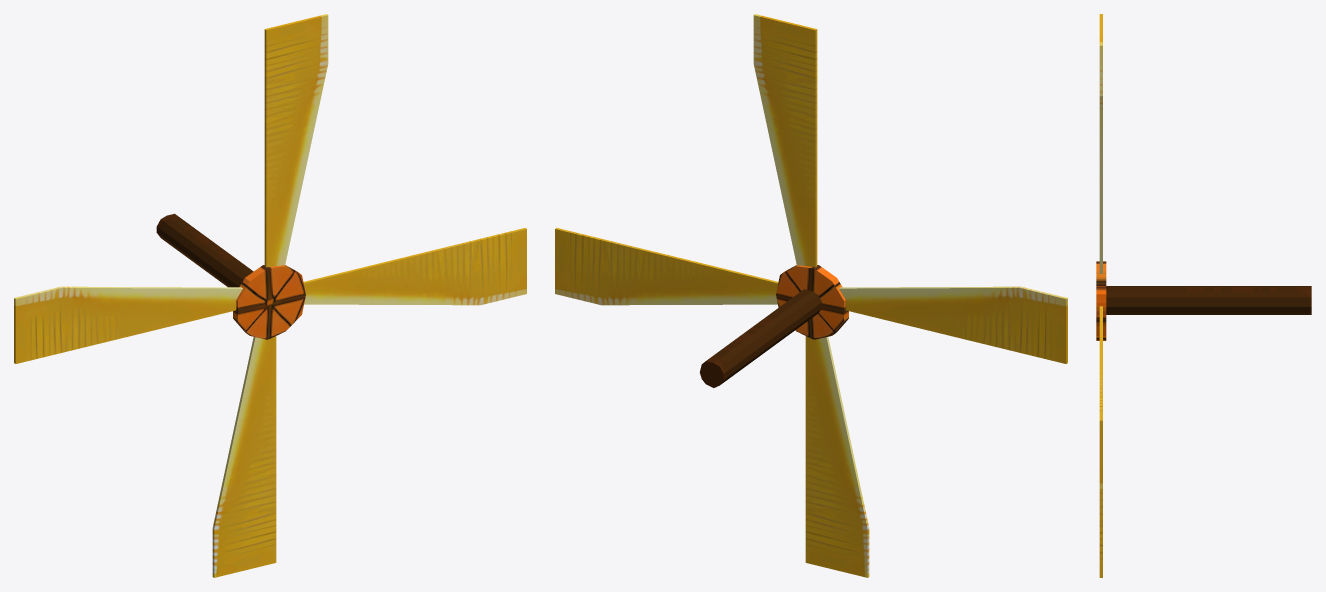
The model's file is GolfFan.glb.
3 views of the same model, side by side, from view 1: azimuth 30°, elevation 25°; view 2: azimuth 150°, elevation 25°; view 3: azimuth 270°, elevation 25° (orthographic). The views are drawn at different scales.
Visible parts, largest first — view 1: GolfFan; view 2: GolfFan; view 3: GolfFan.
Boxes of the visible parts, x1,y1,x2,y2 form: GolfFan: (14, 14, 526, 577); GolfFan: (555, 14, 1067, 577); GolfFan: (1096, 14, 1311, 577).
Bounding box in the file's own units: 219 × 219 × 76.43.
1 material, 1 textured.
